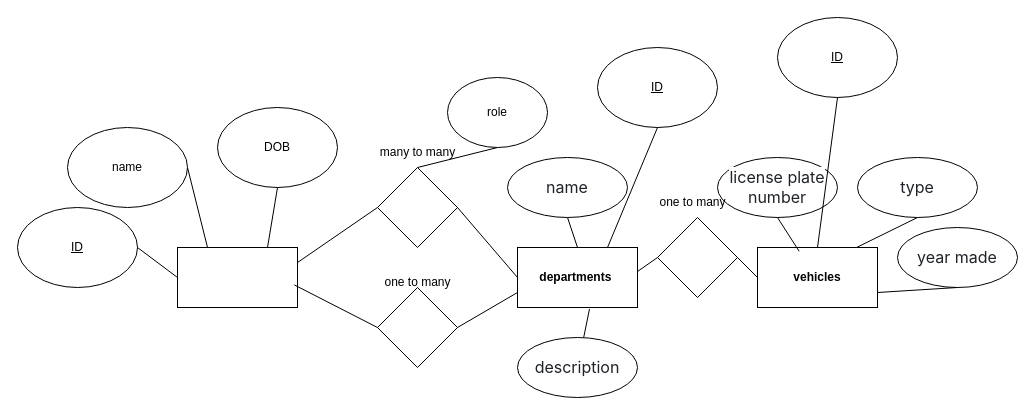
Image size: 1035x415. Some labels were removed from this diagram. The centre of each missing label's shape, as x and y in pixels:
belong: pixel 697 257
employees: pixel 237 277
manage: pixel 417 327
work: pixel 417 207
